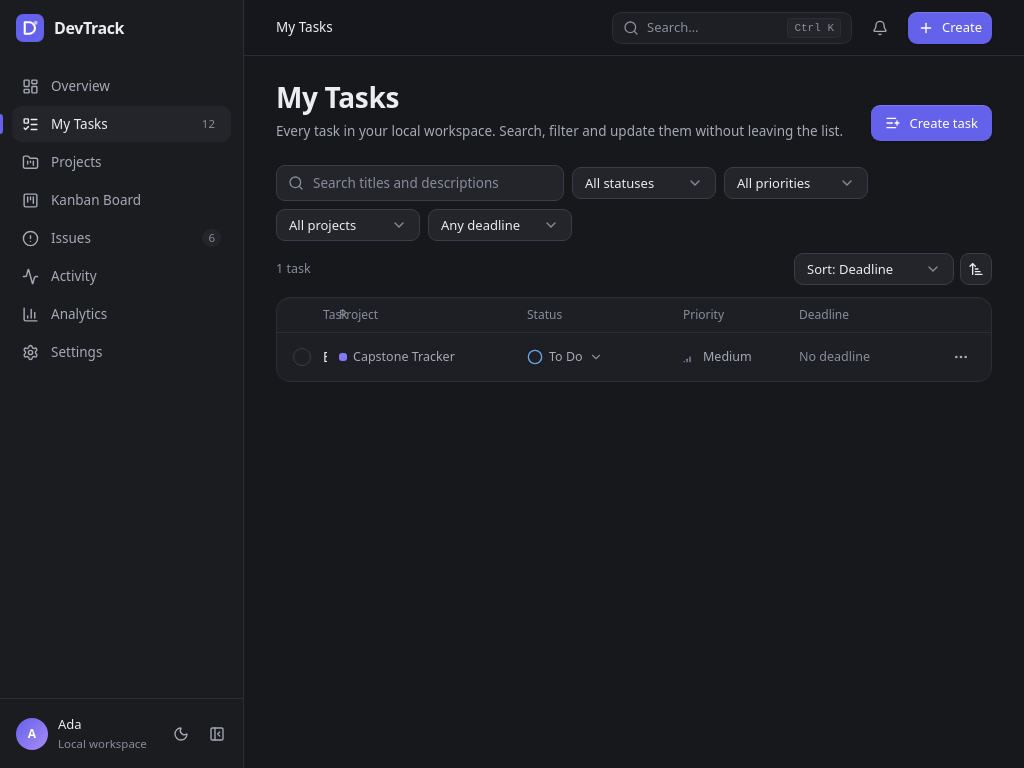
Test: My Tasks › completes a task with the checkbox
Click the checkbox named "Mark \"Book room\" as done" at (302, 357), box left=293, top=348, right=311, bottom=366
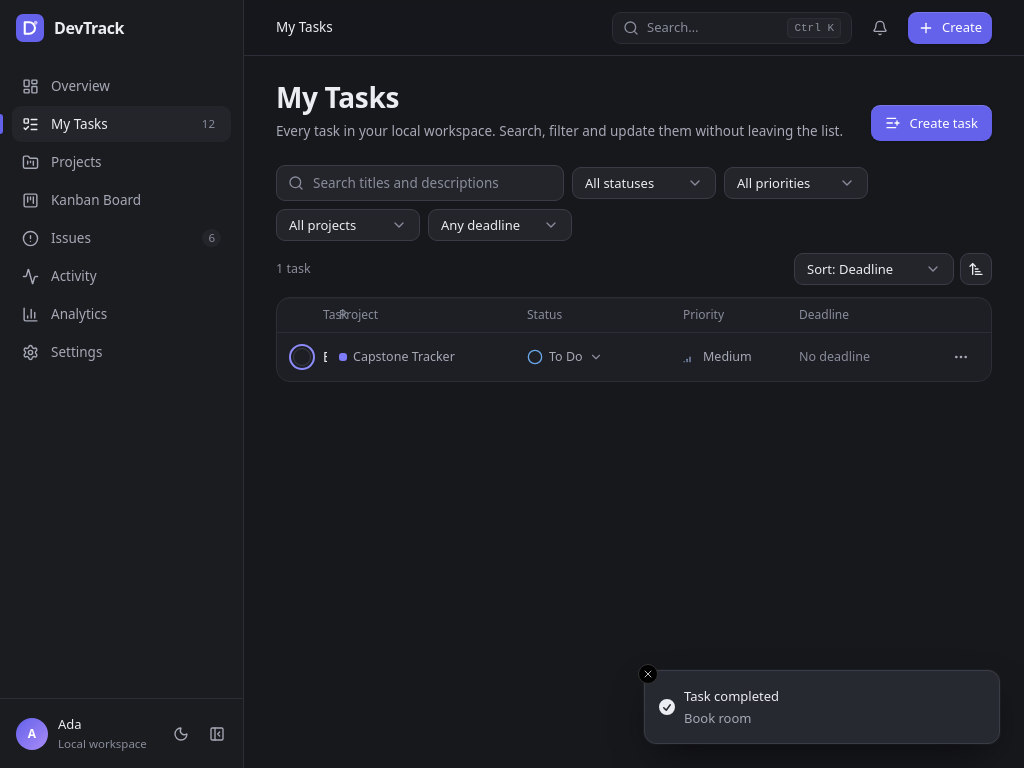
Check: the text "Task completed" is shown, box left=684, top=687, right=779, bottom=707
